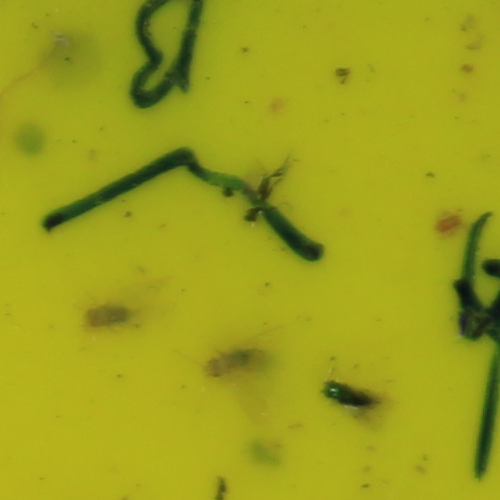psylla: (202, 345, 264, 384), (84, 300, 139, 334)
wasp: (318, 374, 381, 412)
